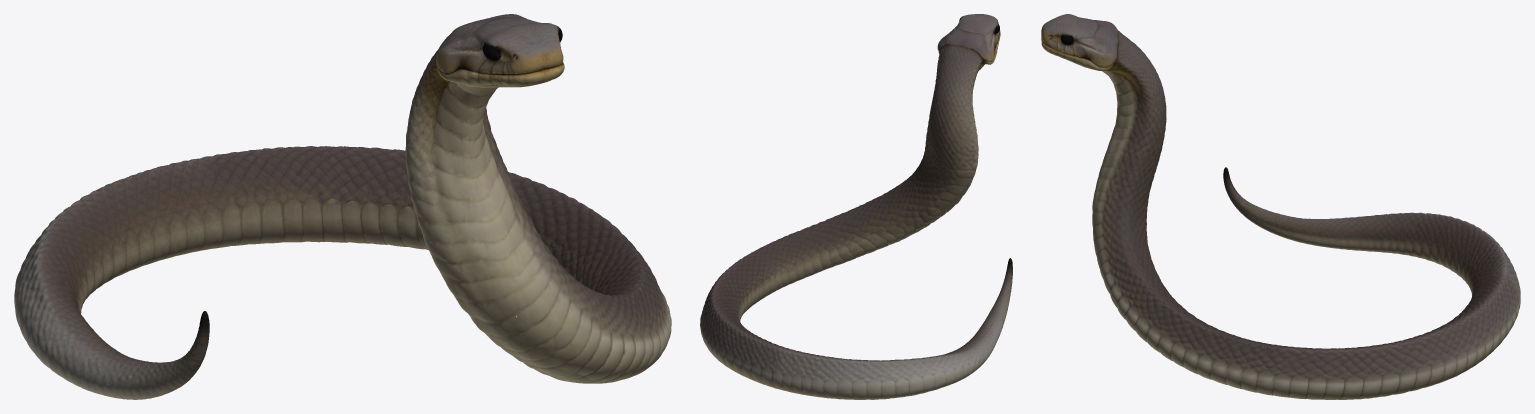
The model's file is she.glb.
The picture shows the model from 3 angles, left to right: view 1: azimuth 30°, elevation 25°; view 2: azimuth 150°, elevation 25°; view 3: azimuth 270°, elevation 25°; orthographic projection. The views are drawn at different scales.
Visible parts, largest first — view 1: tripo_node_c39c0e13-b0c3-41d8-8642-d21e216db733; view 2: tripo_node_c39c0e13-b0c3-41d8-8642-d21e216db733; view 3: tripo_node_c39c0e13-b0c3-41d8-8642-d21e216db733.
Part boxes in pixels (x1,y1,x2,y2): tripo_node_c39c0e13-b0c3-41d8-8642-d21e216db733: (14, 14, 671, 399); tripo_node_c39c0e13-b0c3-41d8-8642-d21e216db733: (700, 14, 1012, 399); tripo_node_c39c0e13-b0c3-41d8-8642-d21e216db733: (1041, 14, 1520, 399).
Size of the model in its own units: 0.7912 by 0.6872 by 0.9999.
1 material, 1 textured.
